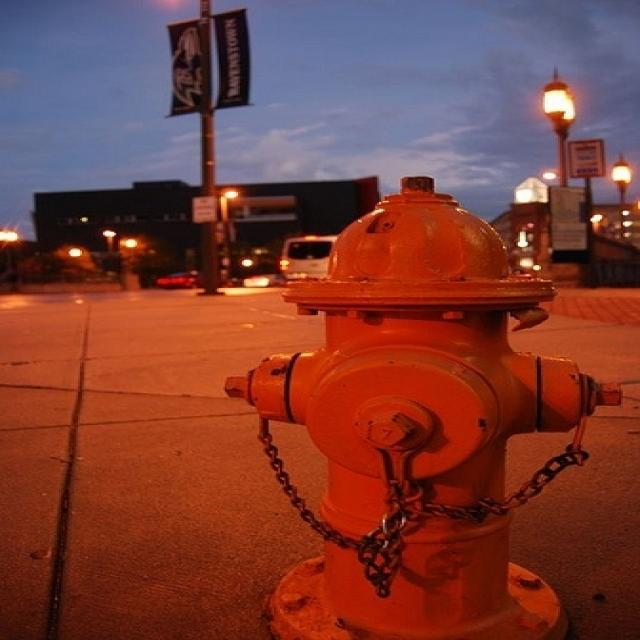fire_hydrant: (245, 114, 640, 640)
